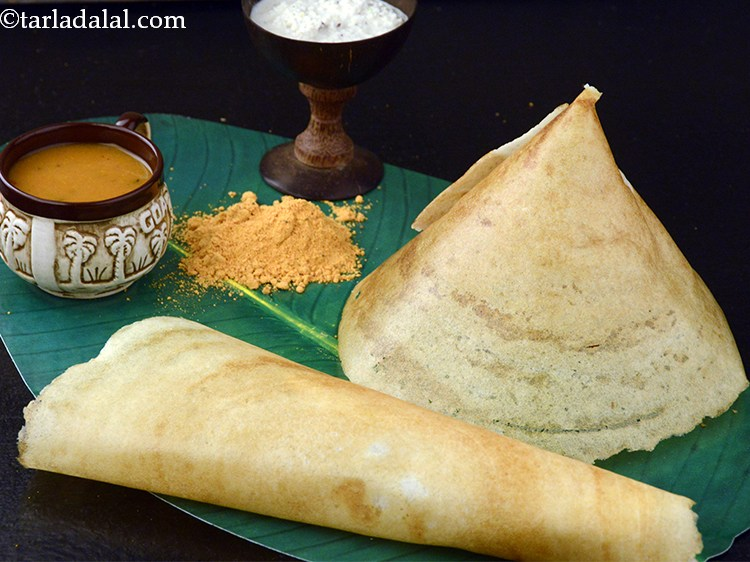dosa: (13, 80, 747, 562)
